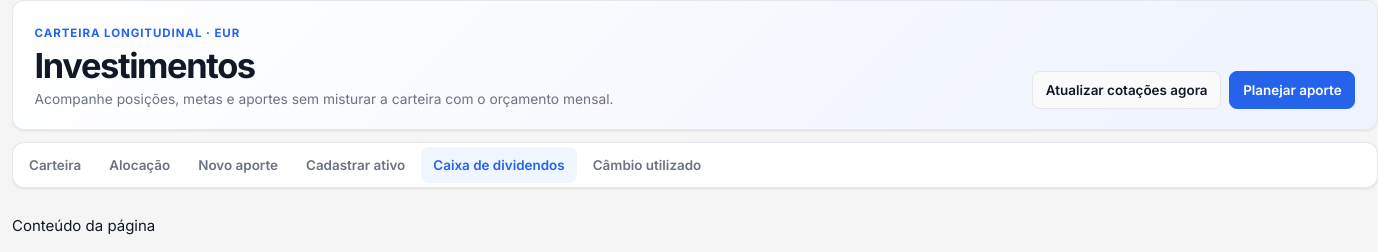
Test: InvestmentsShell › refreshes market data from the heading action
This screenshot has width=1378, height=252.
Expected: the link "Planejar aporte" is shown, [1229,71,1355,109]
Click the button "Atualizar cotações agora" at (1127, 90), box [1032,71,1221,109]
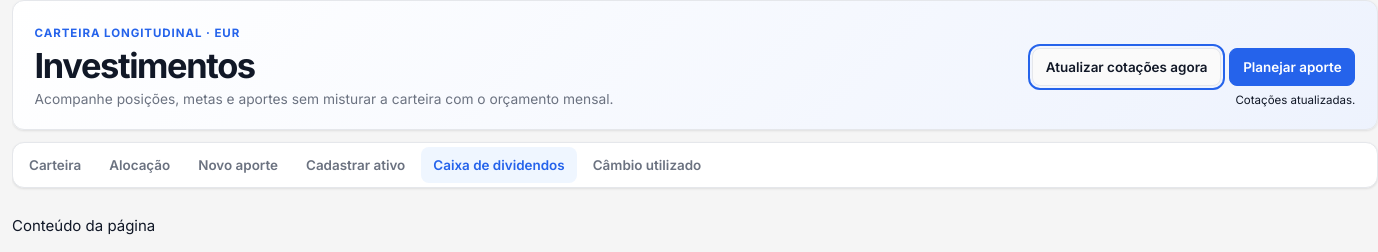
Now the message reads "Cotações atualizadas.", box [1236,93,1356,107]
